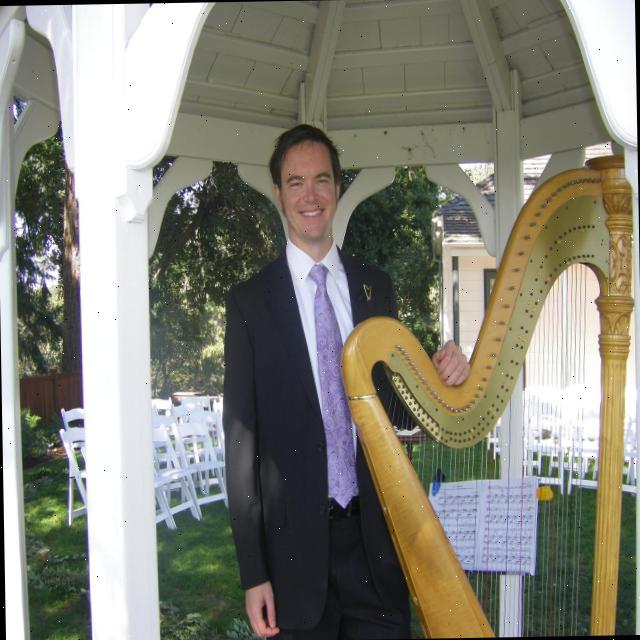harp: (337, 153, 640, 639)
